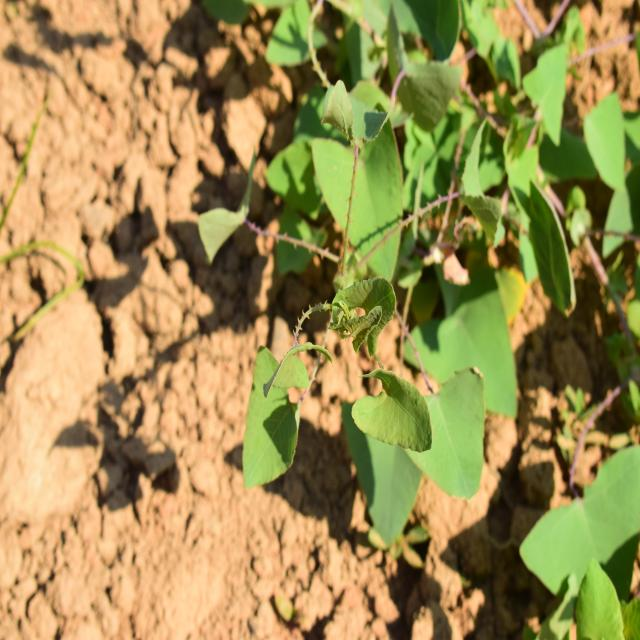Asiatic_Smartweed: (241, 253, 498, 550), (263, 41, 526, 256)
